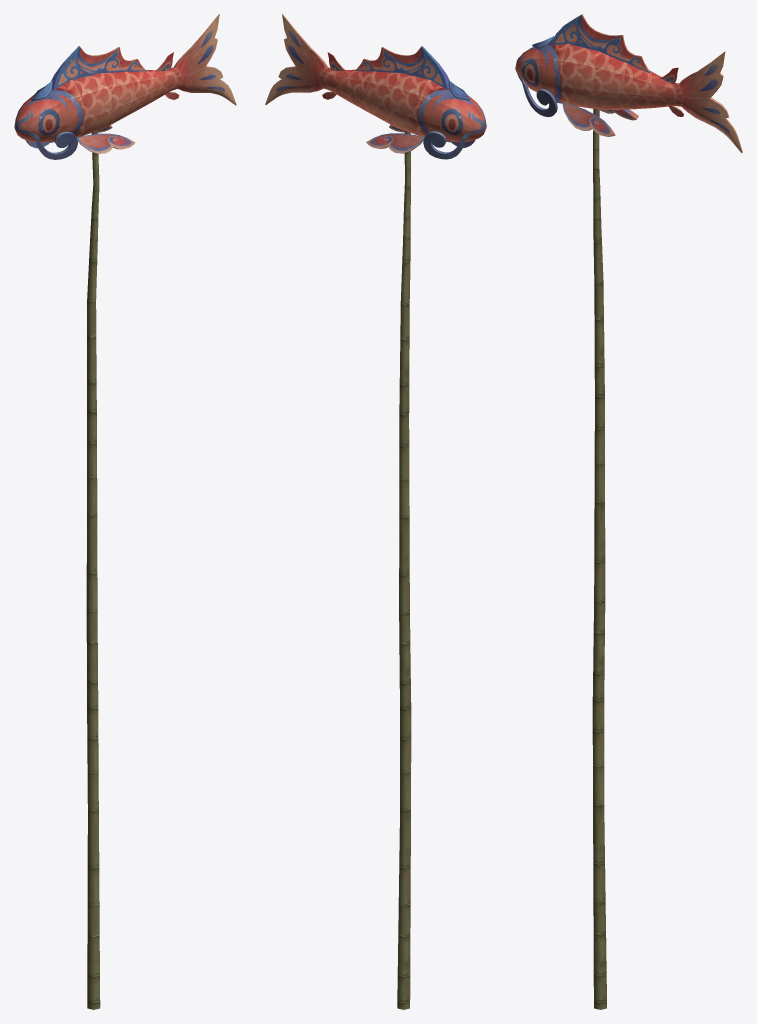
Rendered from Homeworld_Exterior_Cyg_Lamp_Light_FishSma_01_Lod0.fbx.
The picture shows the model from 3 angles, left to right: view 1: azimuth 30°, elevation 25°; view 2: azimuth 150°, elevation 25°; view 3: azimuth 330°, elevation 25°; orthographic projection. The views are drawn at different scales.
Parts seen in each view (by area): view 1: Area_Cyg_Light_QYZ_Yudeng_03_Lod0; view 2: Area_Cyg_Light_QYZ_Yudeng_03_Lod0; view 3: Area_Cyg_Light_QYZ_Yudeng_03_Lod0.
Part boxes in pixels (x1=…): Area_Cyg_Light_QYZ_Yudeng_03_Lod0: x1=14, y1=14, x2=236, y2=1009; Area_Cyg_Light_QYZ_Yudeng_03_Lod0: x1=265, y1=14, x2=486, y2=1009; Area_Cyg_Light_QYZ_Yudeng_03_Lod0: x1=515, y1=14, x2=742, y2=1009.
Size of the model in its own units: 1.75 by 7.32 by 0.3637.
